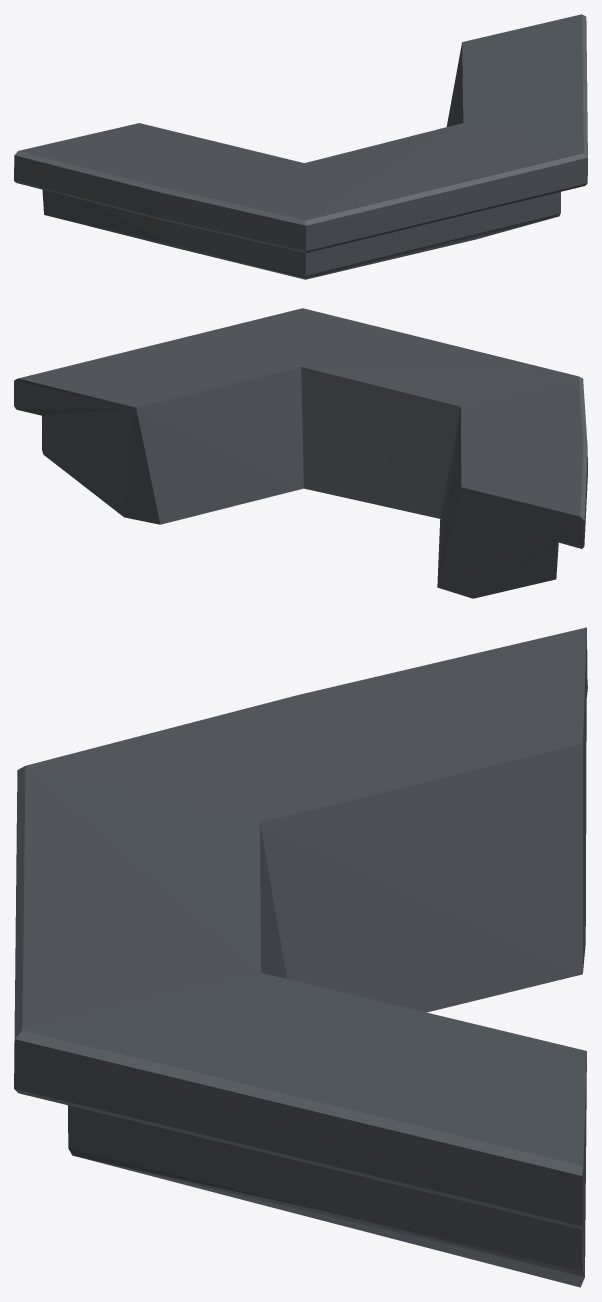
The model's file is MCastle_SmallTurret_09.FBX.
The picture shows the model from 3 angles, top to bottom: view 1: azimuth 30°, elevation 25°; view 2: azimuth 150°, elevation 25°; view 3: azimuth 270°, elevation 25°; orthographic projection. The views are drawn at different scales.
Parts seen in each view (by area): view 1: MCastle_SmallTurret_09_LOD0; view 2: MCastle_SmallTurret_09_LOD0; view 3: MCastle_SmallTurret_09_LOD0.
Part boxes in pixels (<box>): MCastle_SmallTurret_09_LOD0: <box>14,14,587,279</box>; MCastle_SmallTurret_09_LOD0: <box>14,308,587,598</box>; MCastle_SmallTurret_09_LOD0: <box>14,627,587,1287</box>.
Size of what is drawn, in the model's own units: 8.42 by 1.61 by 3.74.
